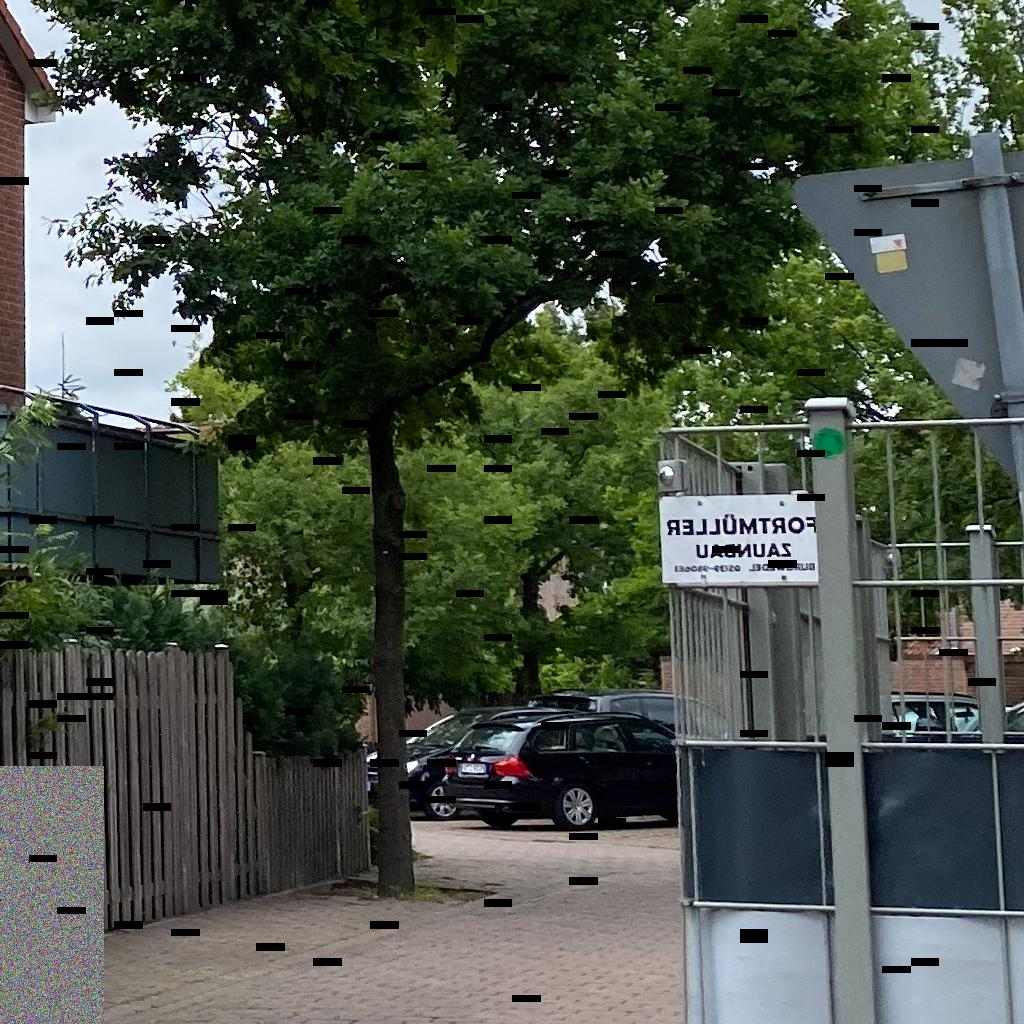tree: (29, 1, 732, 891), (532, 1, 973, 392), (164, 303, 545, 720), (437, 302, 629, 706)
